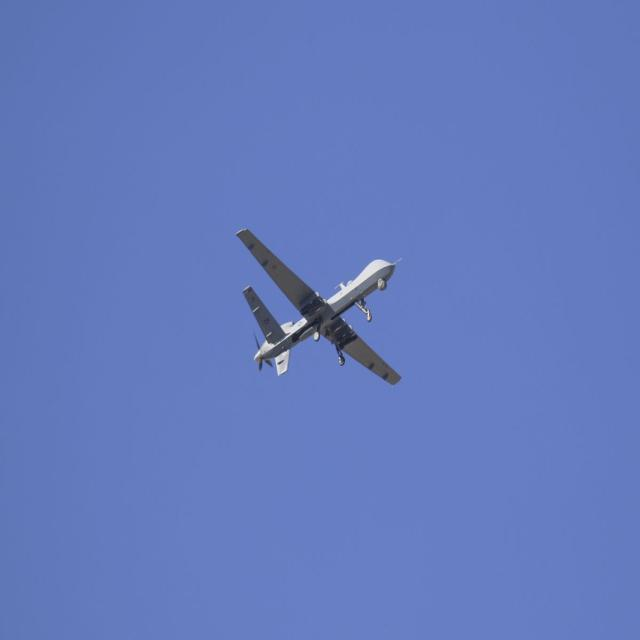MIL_Plane: (235, 229, 402, 387)
